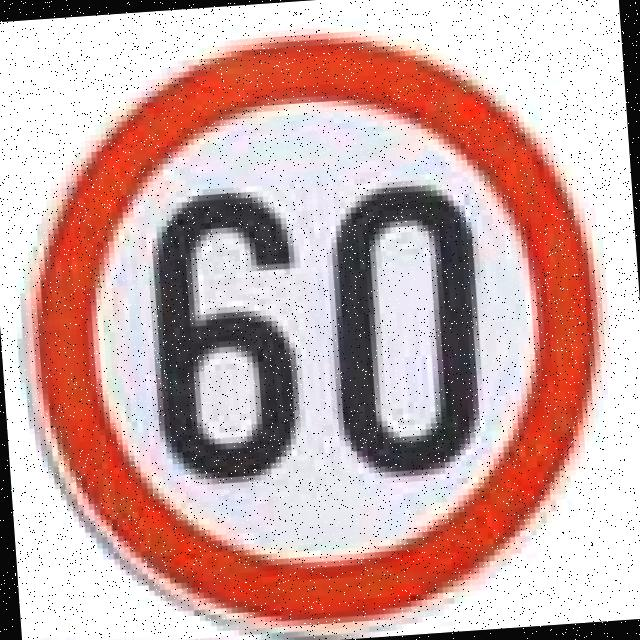Ograniczenie predkosci do 60: (0, 21, 618, 640)
